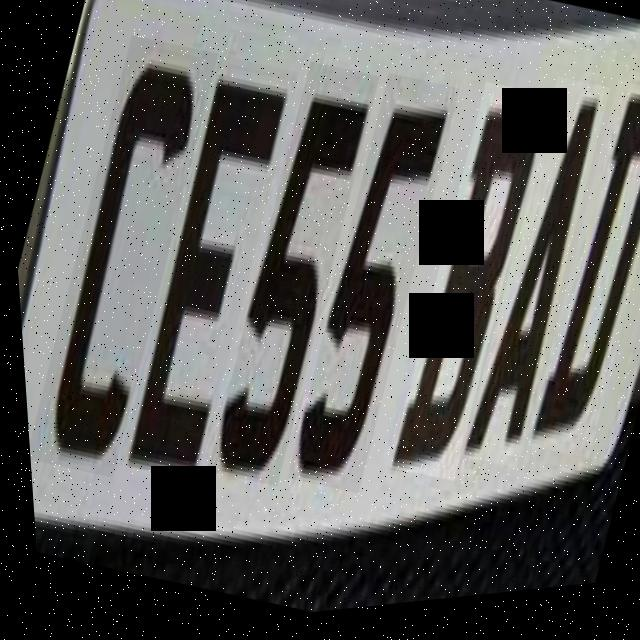5: (180, 64, 399, 499), (259, 76, 478, 506)
A: (437, 84, 628, 482)
B: (363, 87, 567, 495)
C: (3, 31, 238, 485)
D: (501, 91, 640, 476)
E: (93, 54, 318, 488)
